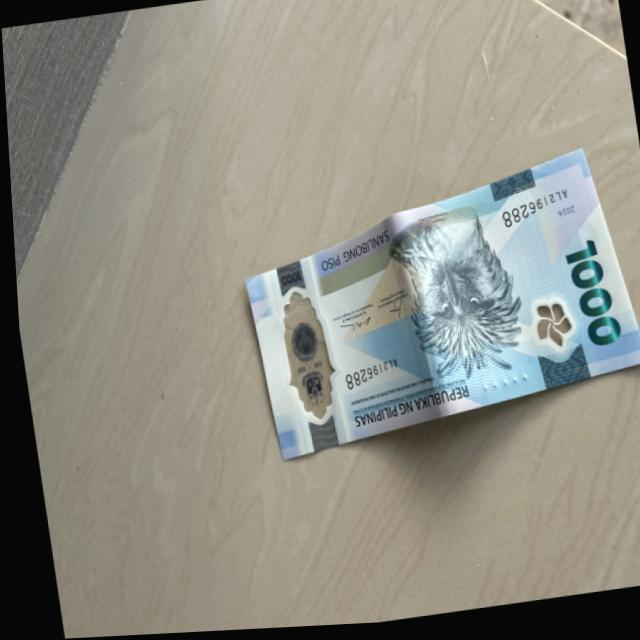clear_window: (270, 280, 340, 433)
eagle: (404, 202, 513, 389)
sampaguita: (527, 301, 569, 352)
